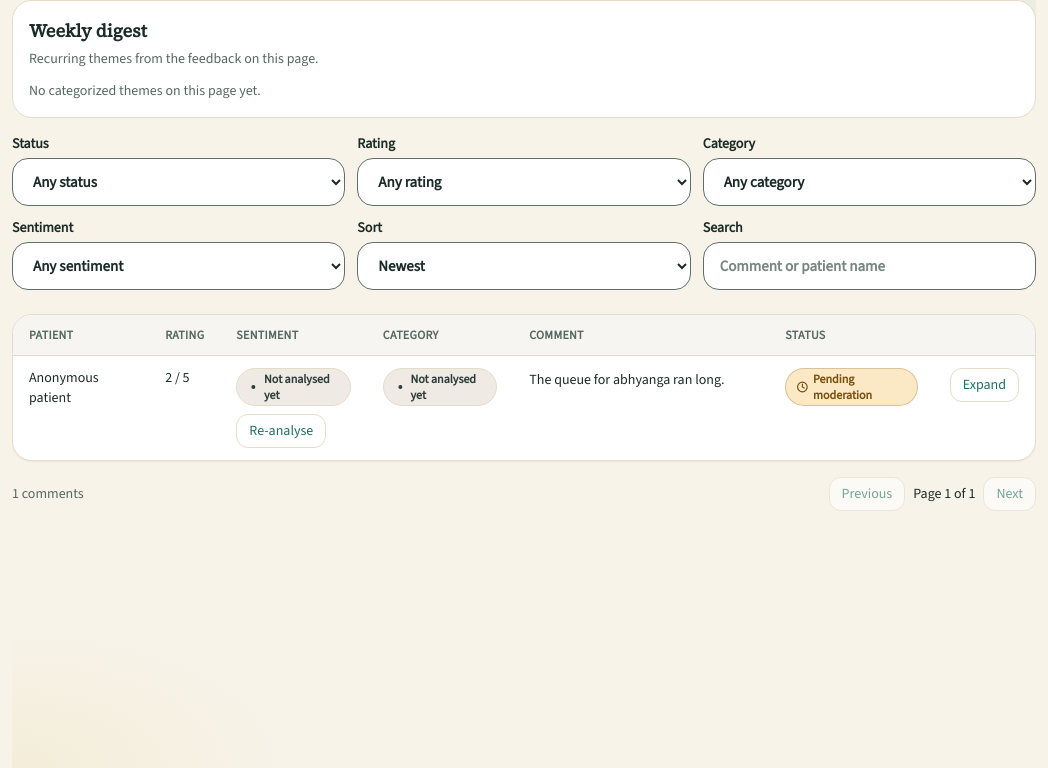
Test: FeedbackDashboardPage › re-analyses when sentiment and category are missing
Expected: the text "Not analysed yet" is shown 2 times, left=236, top=368, right=351, bottom=406; left=383, top=368, right=497, bottom=406
Click the button "Re-analyse".
click(281, 431)  # box left=236, top=414, right=326, bottom=448
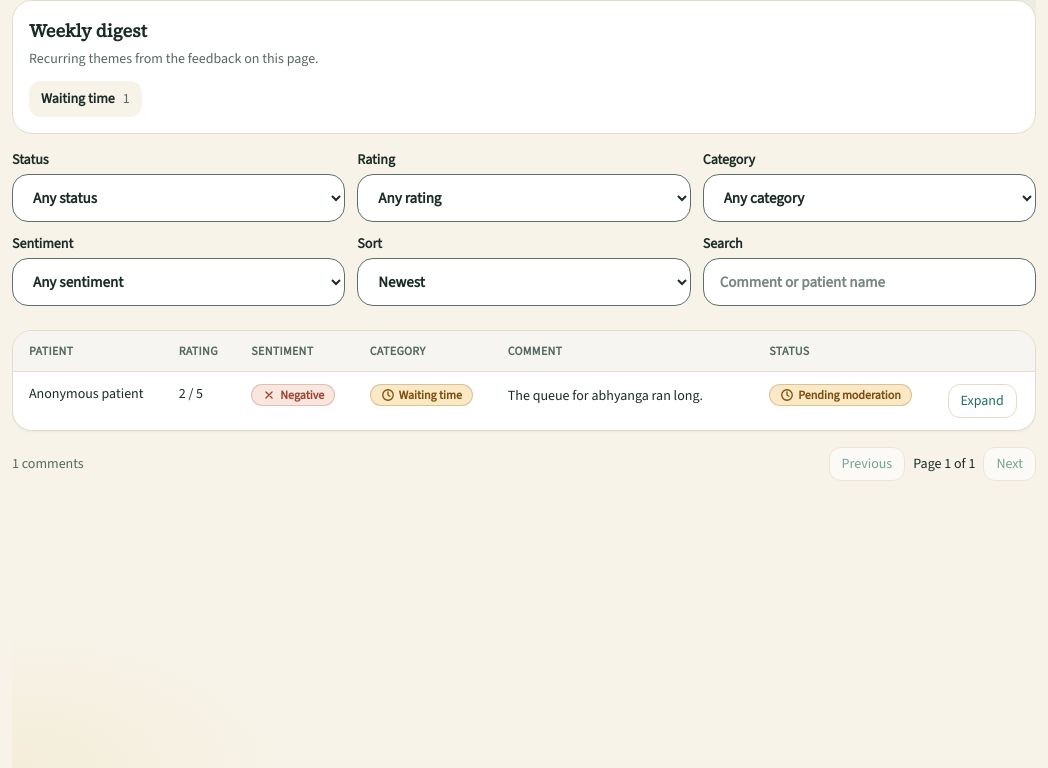
Now the text "Negative" is shown, box left=251, top=384, right=335, bottom=406
Now the text "Waiting time" is shown, box left=370, top=384, right=473, bottom=406
Now the text "Not analysed yet" is gone
